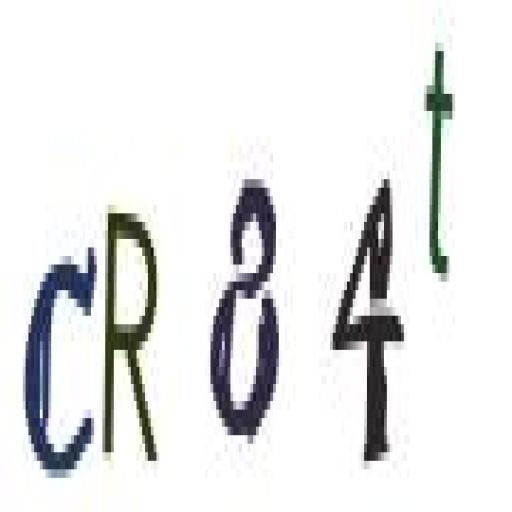4: (328, 158, 409, 481)
8: (206, 162, 282, 448)
R: (100, 191, 164, 482)
c: (18, 217, 101, 491)
t: (424, 15, 464, 293)
